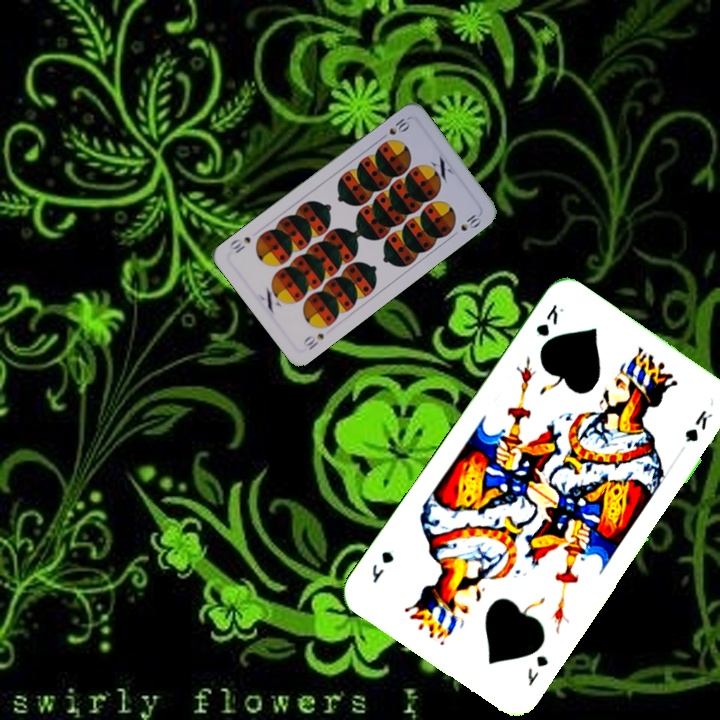GK: (531, 299, 567, 340), (523, 651, 551, 689)
S10: (376, 114, 413, 143), (299, 329, 327, 353)
